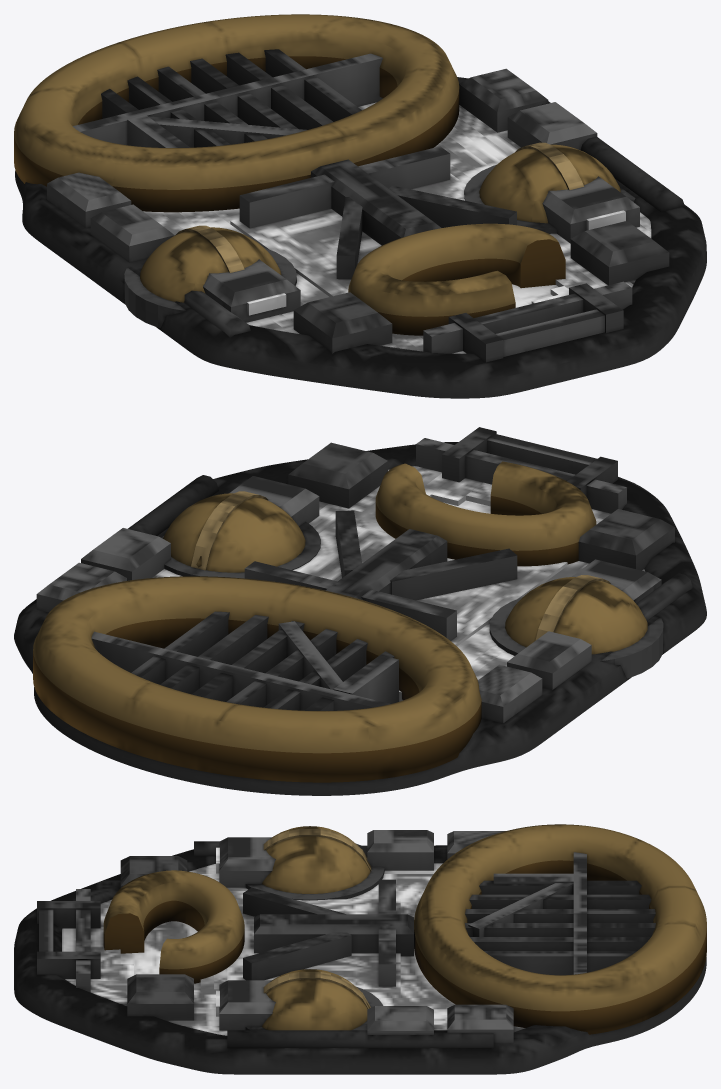
The model's file is tyrbld-bunker-ring.glb.
3 views of the same model, one above another, from view 1: azimuth 30°, elevation 25°; view 2: azimuth 150°, elevation 25°; view 3: azimuth 270°, elevation 25° (orthographic). The views are drawn at different scales.
Parts seen in each view (by area): view 1: shapesz-tyrbld-bunker-ring-parts, shapesz-tyrbld-bunker-ring-deck; view 2: shapesz-tyrbld-bunker-ring-parts, shapesz-tyrbld-bunker-ring-deck; view 3: shapesz-tyrbld-bunker-ring-parts, shapesz-tyrbld-bunker-ring-deck.
Boxes of the visible parts, x1=… form: shapesz-tyrbld-bunker-ring-parts: x1=14, y1=14, x2=706, y2=398; shapesz-tyrbld-bunker-ring-deck: x1=143, y1=102, x2=651, y2=353; shapesz-tyrbld-bunker-ring-parts: x1=14, y1=427, x2=706, y2=795; shapesz-tyrbld-bunker-ring-deck: x1=152, y1=466, x2=644, y2=701; shapesz-tyrbld-bunker-ring-parts: x1=14, y1=824, x2=706, y2=1074; shapesz-tyrbld-bunker-ring-deck: x1=62, y1=863, x2=525, y2=1035.
Size of the model in its own units: 3.21 by 0.415 by 4.33.
Materials: 9 (9 with a texture image).
